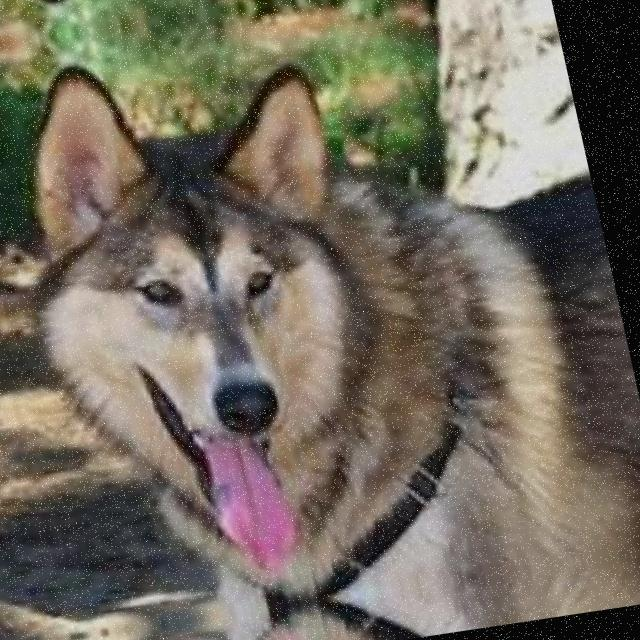dog: (0, 30, 614, 634), (90, 555, 626, 640)
